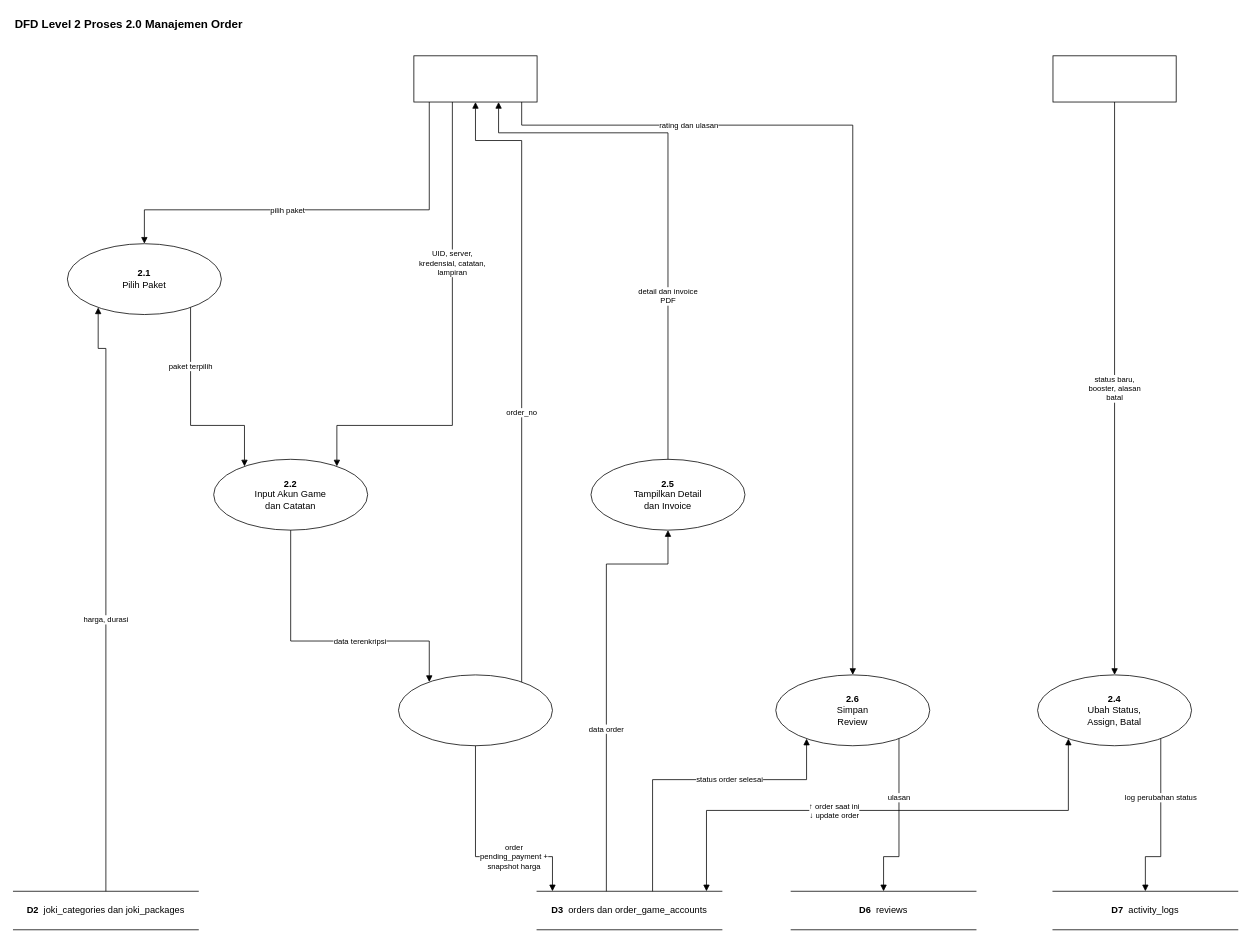
The diagram is 1251 pixels wide and 943 high, and some of its shapes have lost their labels. Each missing label, with the centre of its shape:
2.3 Validasi dan Buat Order: (475,710)
Admin / Owner: (1114,78)
User: (475,78)
